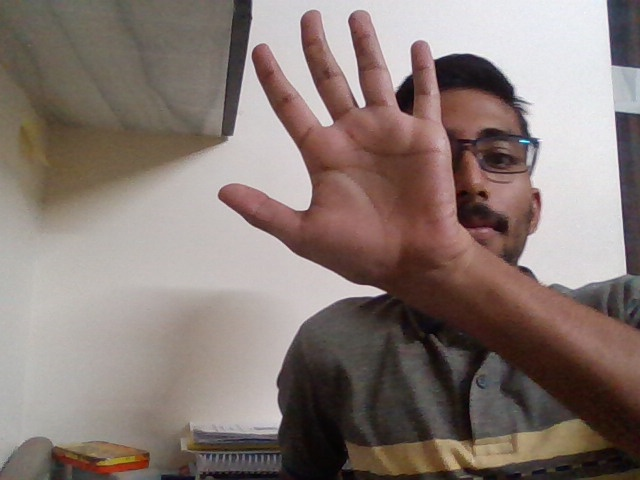Hello: (216, 1, 473, 309)
